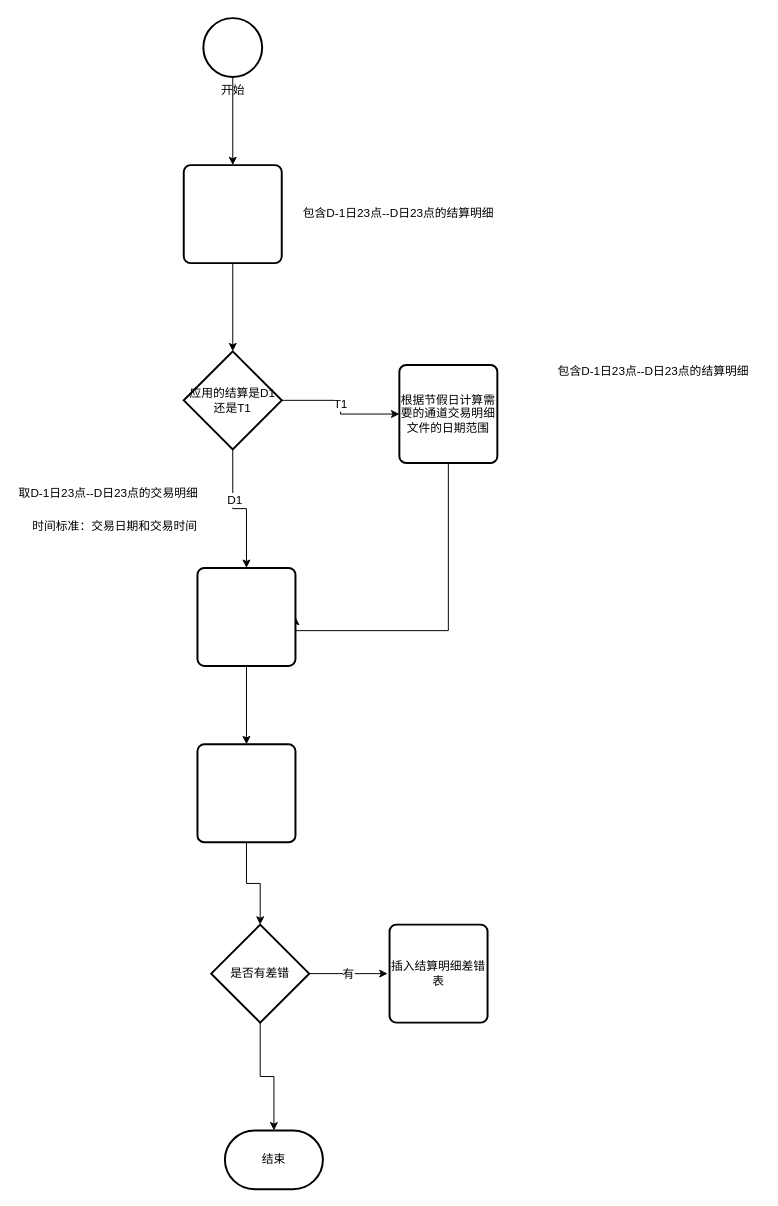
Some shapes in this 778 by 1206 pixel diagram are drawn without their labels. The shapes that lost their labels are listed below. From the top down, each one's box as (x1, y1, x2, y2) in pixels, then its label:
(182, 164, 282, 264): 获取D日结算明细文件
(196, 566, 296, 666): 获取通道交易明细文件
(196, 743, 296, 843): 对账
